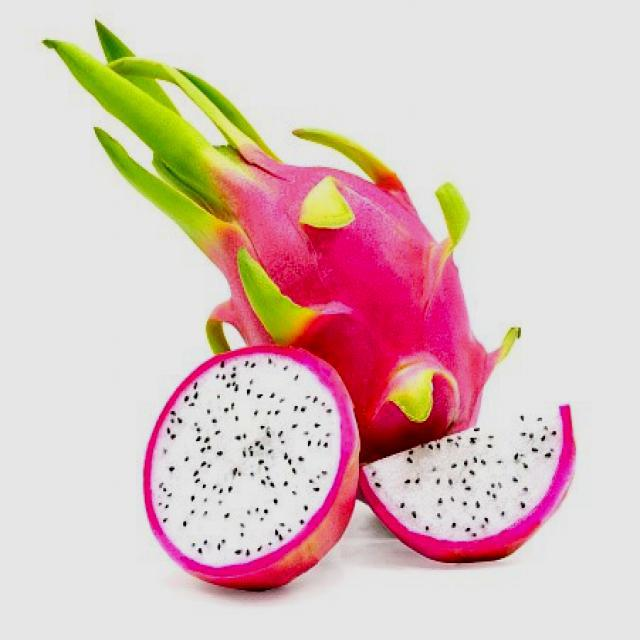trang: (43, 22, 486, 496), (137, 338, 365, 600), (357, 398, 576, 572)
